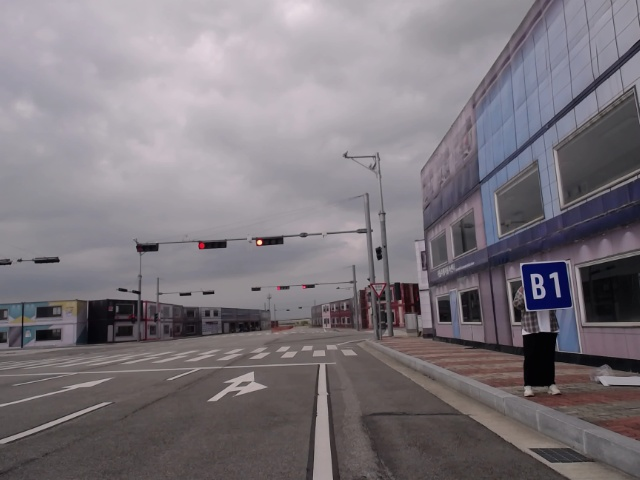delivery_b1: (521, 261, 573, 311)
red_4: (198, 240, 227, 249), (256, 237, 284, 246), (303, 284, 315, 289), (277, 286, 290, 290)
